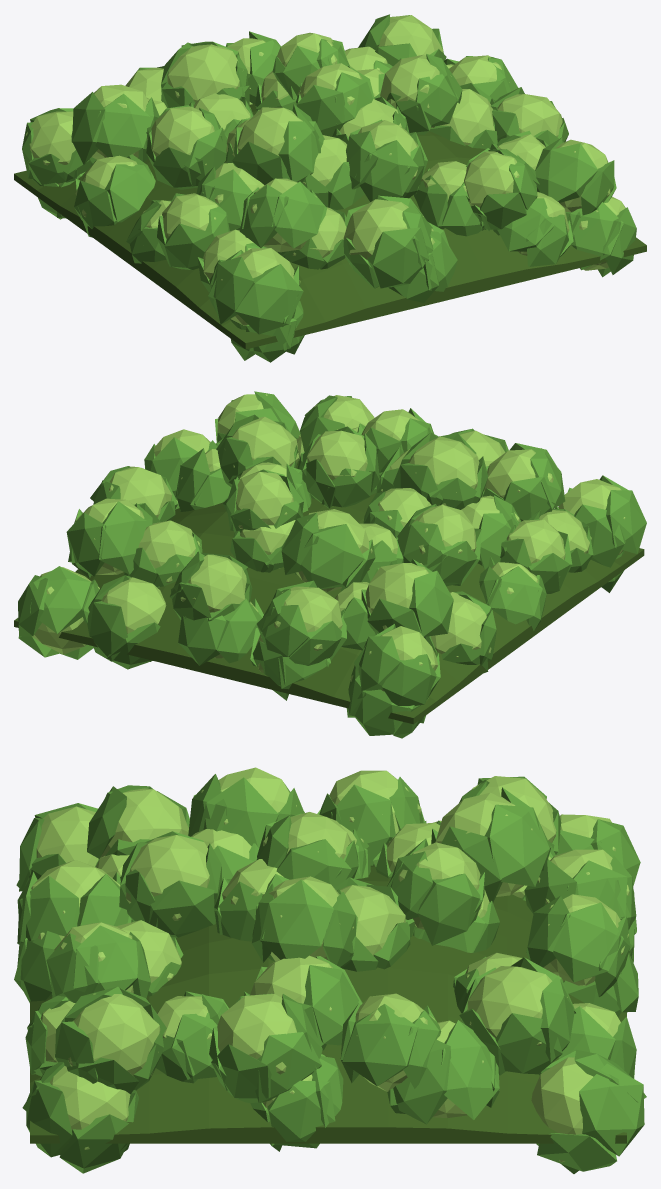
File: Pile_Cabbage.fbx
3 renders of one model, top to bottom at view 1: azimuth 30°, elevation 25°; view 2: azimuth 150°, elevation 25°; view 3: azimuth 270°, elevation 25°, orthographic. The views are drawn at different scales.
Visible parts, largest first — view 1: Pile_Cabbage; view 2: Pile_Cabbage; view 3: Pile_Cabbage.
Boxes of the visible parts, left/top/right/bottom form: Pile_Cabbage: left=14, top=14, right=646, bottom=362; Pile_Cabbage: left=14, top=391, right=646, bottom=738; Pile_Cabbage: left=14, top=767, right=646, bottom=1173.
Bounding box in the file's own units: 1.05 × 0.4548 × 1.06.
